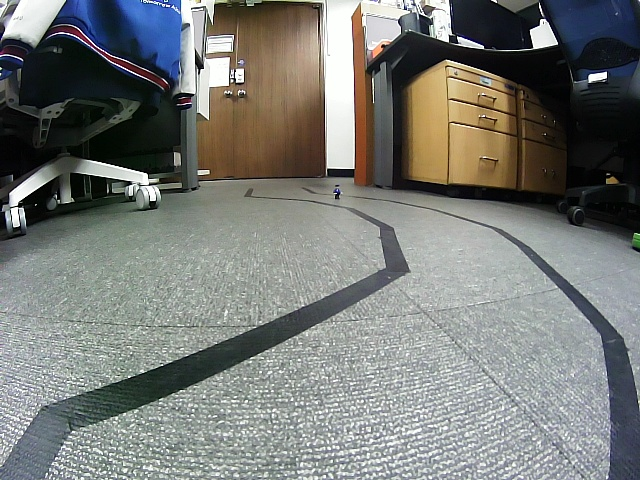person: (333, 183, 343, 201)
